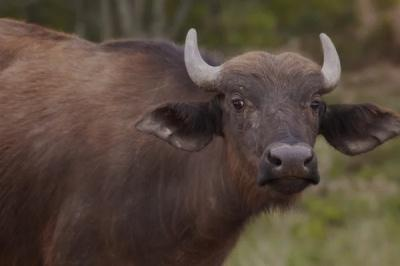buffalo: (101, 29, 400, 266)
